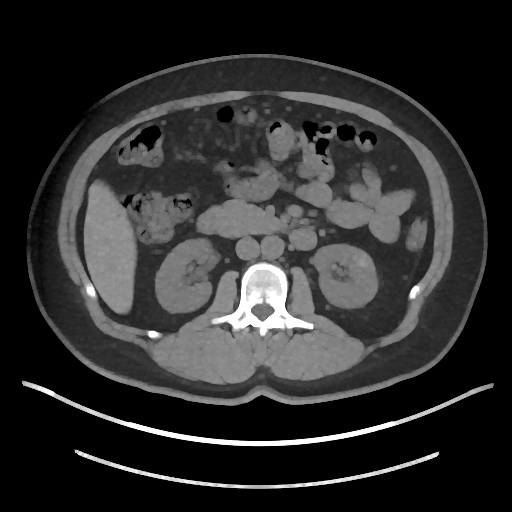Lesion: (351, 251, 371, 268)
